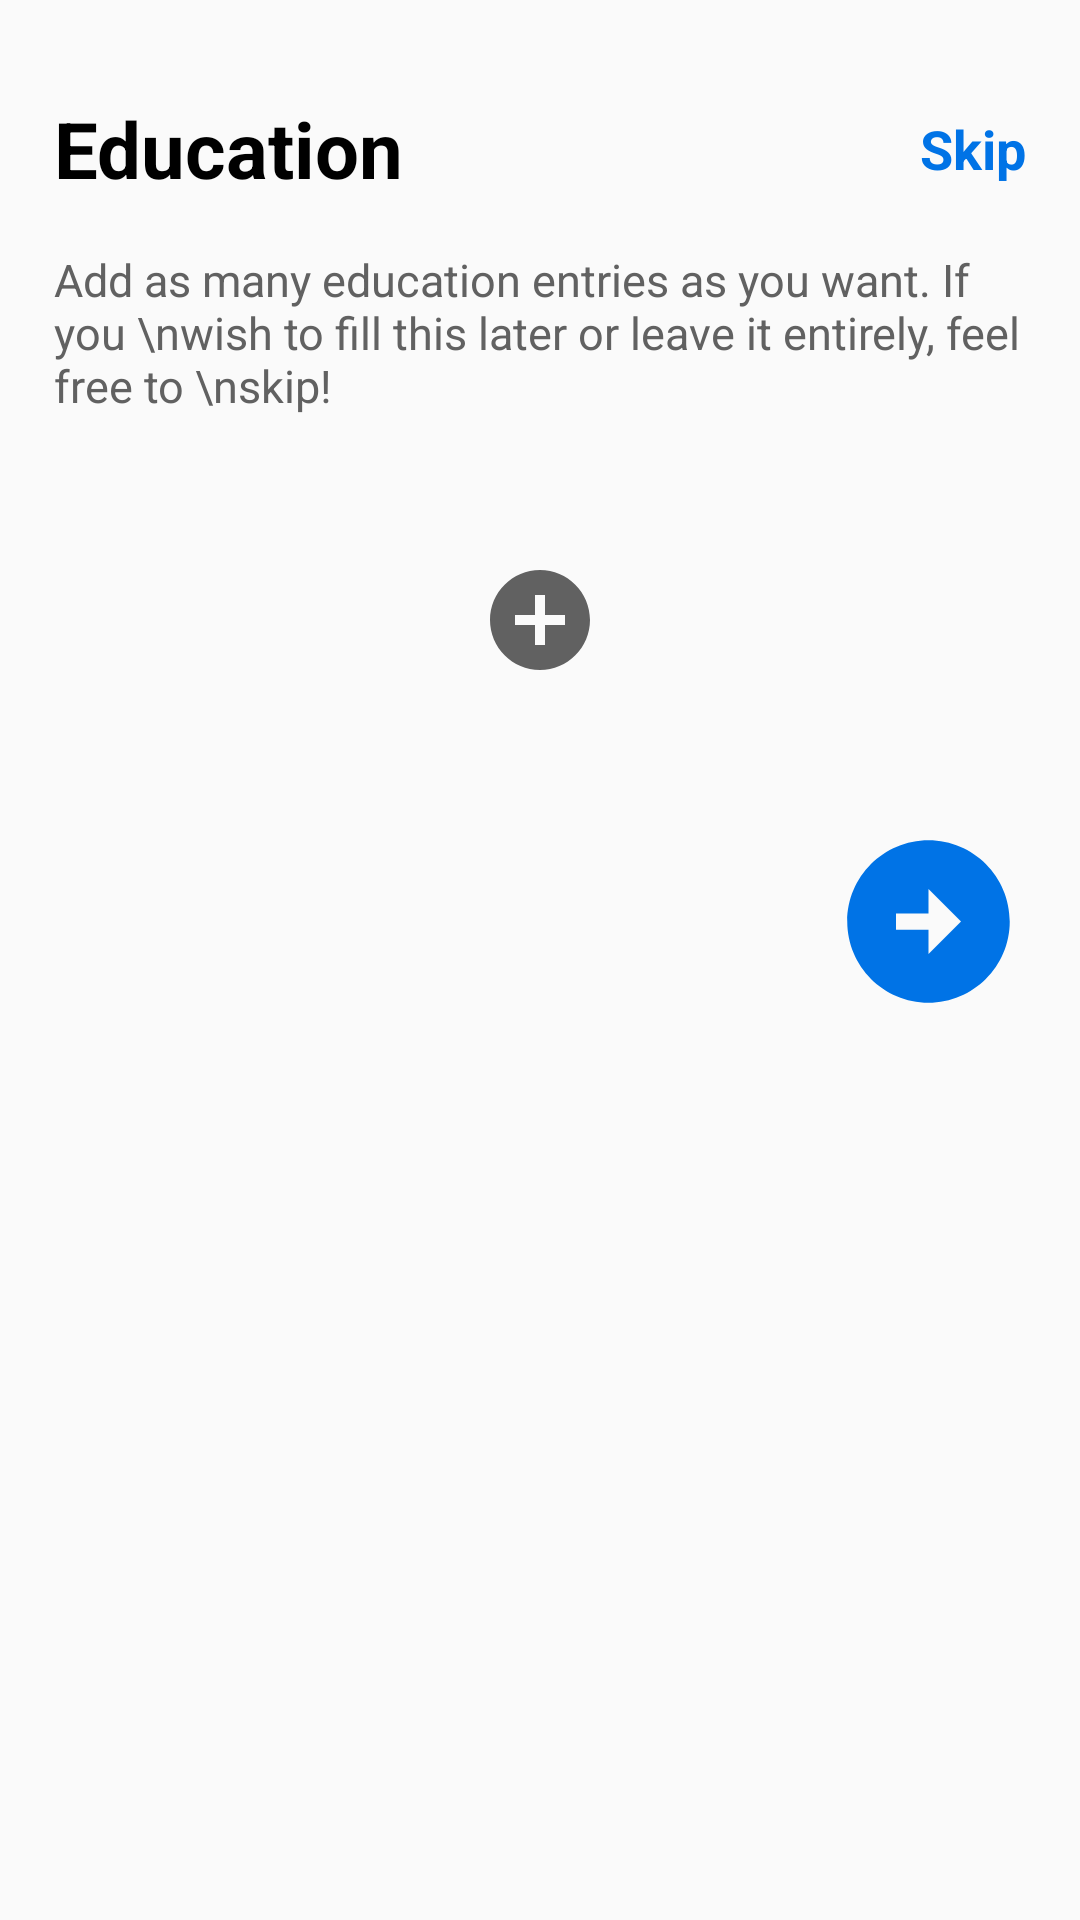

Screen size 1080×1920. Icon name, then its box in pixels as (x1, y1, x2, y2):
add circle: (490, 570, 590, 670)
arrow: (847, 840, 1010, 1003)
